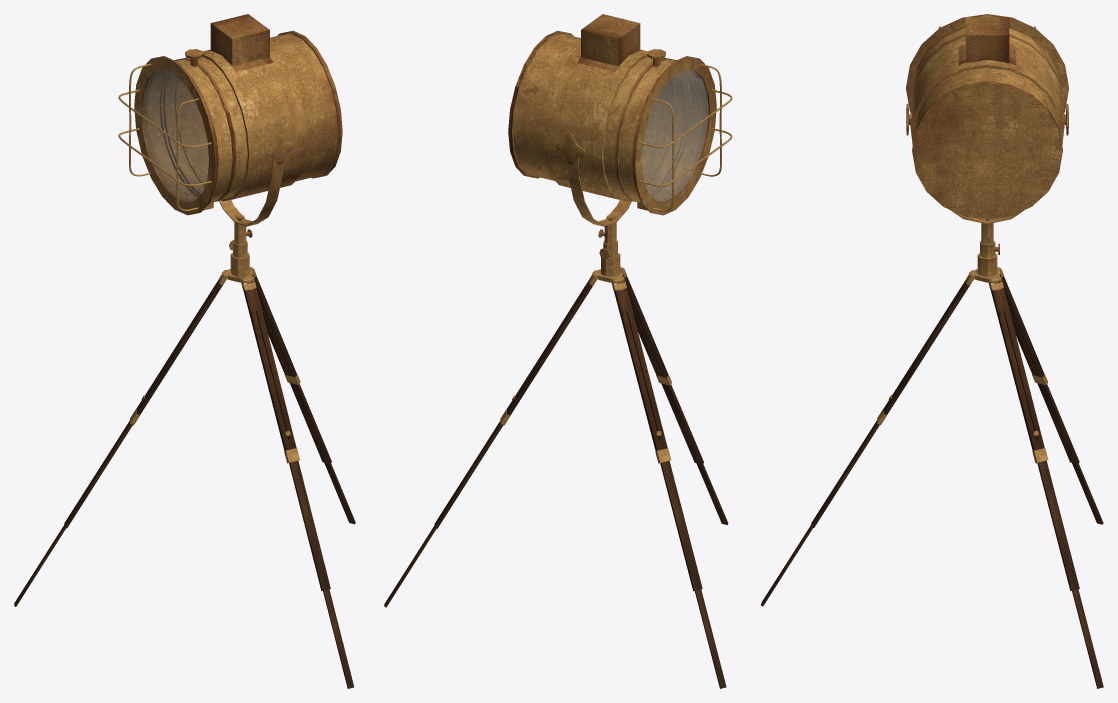
Rendered from Lamp_whole.fbx.
3 renders of one model, left to right at view 1: azimuth 30°, elevation 25°; view 2: azimuth 150°, elevation 25°; view 3: azimuth 270°, elevation 25°, orthographic.
Visible parts, largest first — view 1: polySurface107; view 2: polySurface107; view 3: polySurface107.
Boxes of the visible parts, x1,y1,x2,y2 form: polySurface107: [14, 14, 355, 688]; polySurface107: [384, 14, 732, 688]; polySurface107: [761, 14, 1103, 688].
Bounding box in the file's own units: 3.46 × 5.61 × 3.01.
2 materials, 1 textured.
